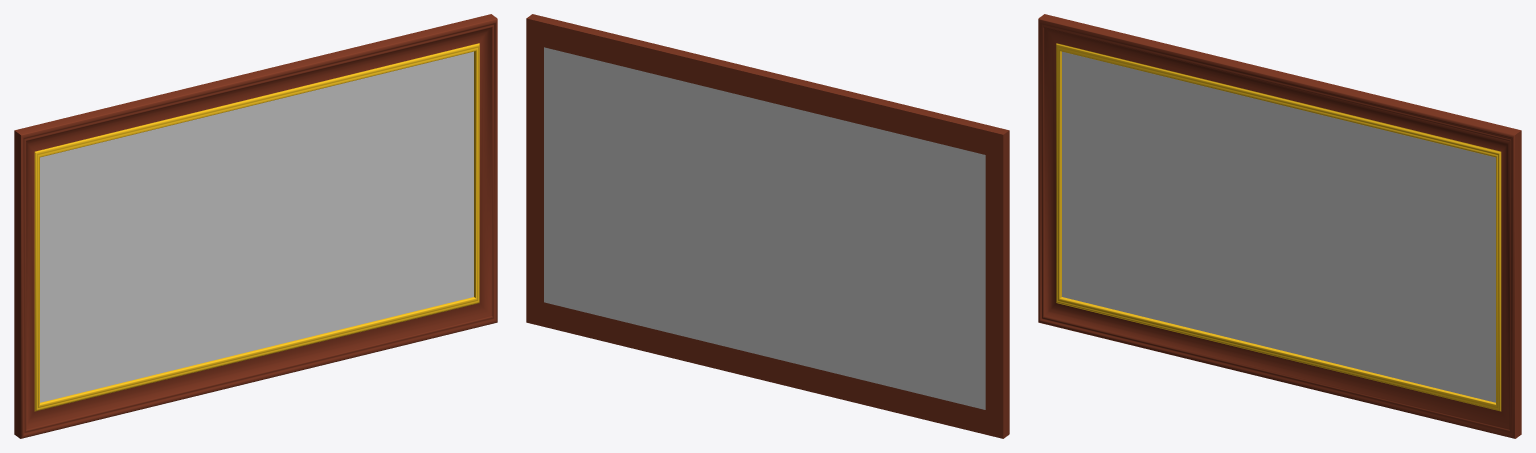
File: рама.fbx
3 views of the same model, side by side, from view 1: azimuth 30°, elevation 25°; view 2: azimuth 150°, elevation 25°; view 3: azimuth 330°, elevation 25° (orthographic).
Visible parts, largest first — view 1: Plane; view 2: Plane; view 3: Plane.
Boxes of the visible parts, x1=… form: Plane: x1=14, y1=14, x2=497, y2=438; Plane: x1=526, y1=14, x2=1009, y2=438; Plane: x1=1038, y1=14, x2=1521, y2=438.
Bounding box in the file's own units: 1489 × 908 × 37.46.
